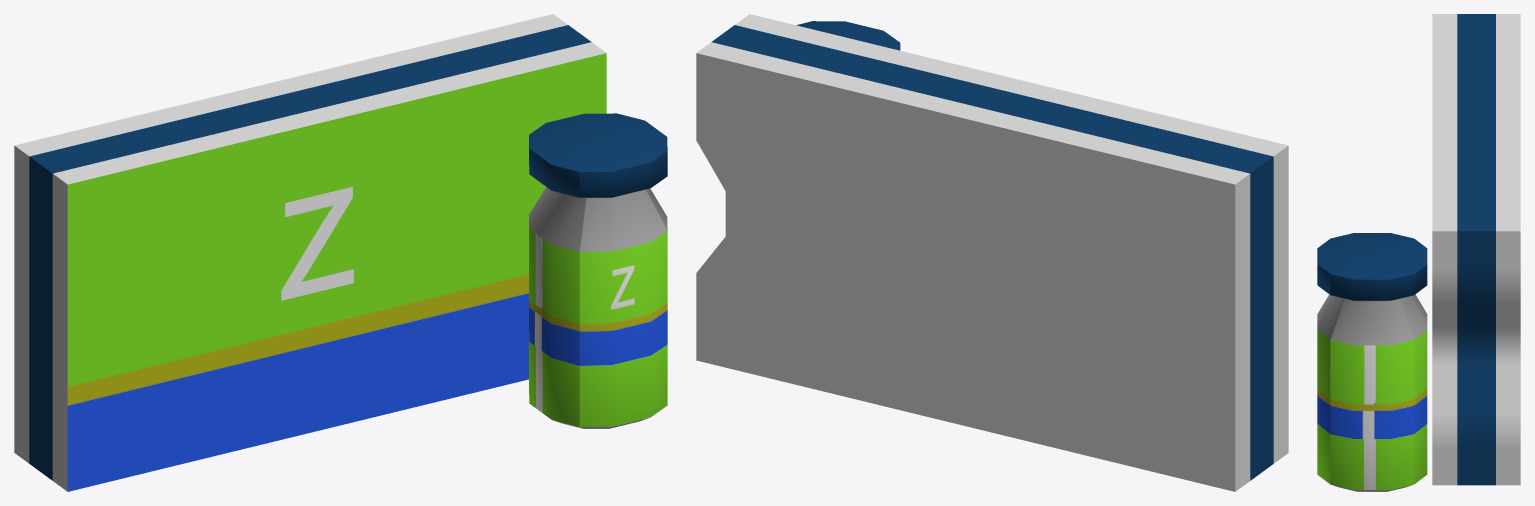
Rendered from Zotapina.fbx.
The picture shows the model from 3 angles, left to right: view 1: azimuth 30°, elevation 25°; view 2: azimuth 150°, elevation 25°; view 3: azimuth 270°, elevation 25°; orthographic projection. The views are drawn at different scales.
Visible parts, largest first — view 1: pCube3, pCube4; view 2: pCube3, pCube4; view 3: pCube3, pCube4.
Part boxes in pixels (<box>): pCube3: <box>14,14,606,491</box>; pCube4: <box>529,113,667,428</box>; pCube3: <box>696,14,1288,491</box>; pCube4: <box>796,21,900,50</box>; pCube3: <box>1432,14,1520,485</box>; pCube4: <box>1317,233,1427,491</box>.
Bounding box in the file's own units: 2.48 × 1.36 × 0.9601.
Materials: 5 (2 with a texture image).
